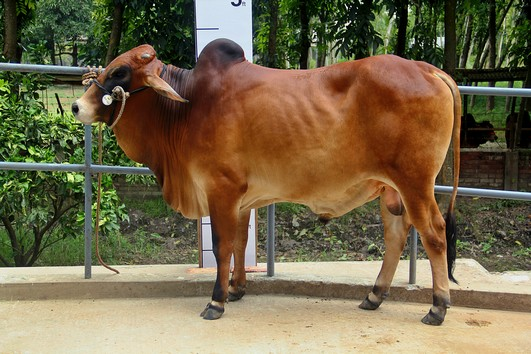cow: (66, 38, 472, 329)
